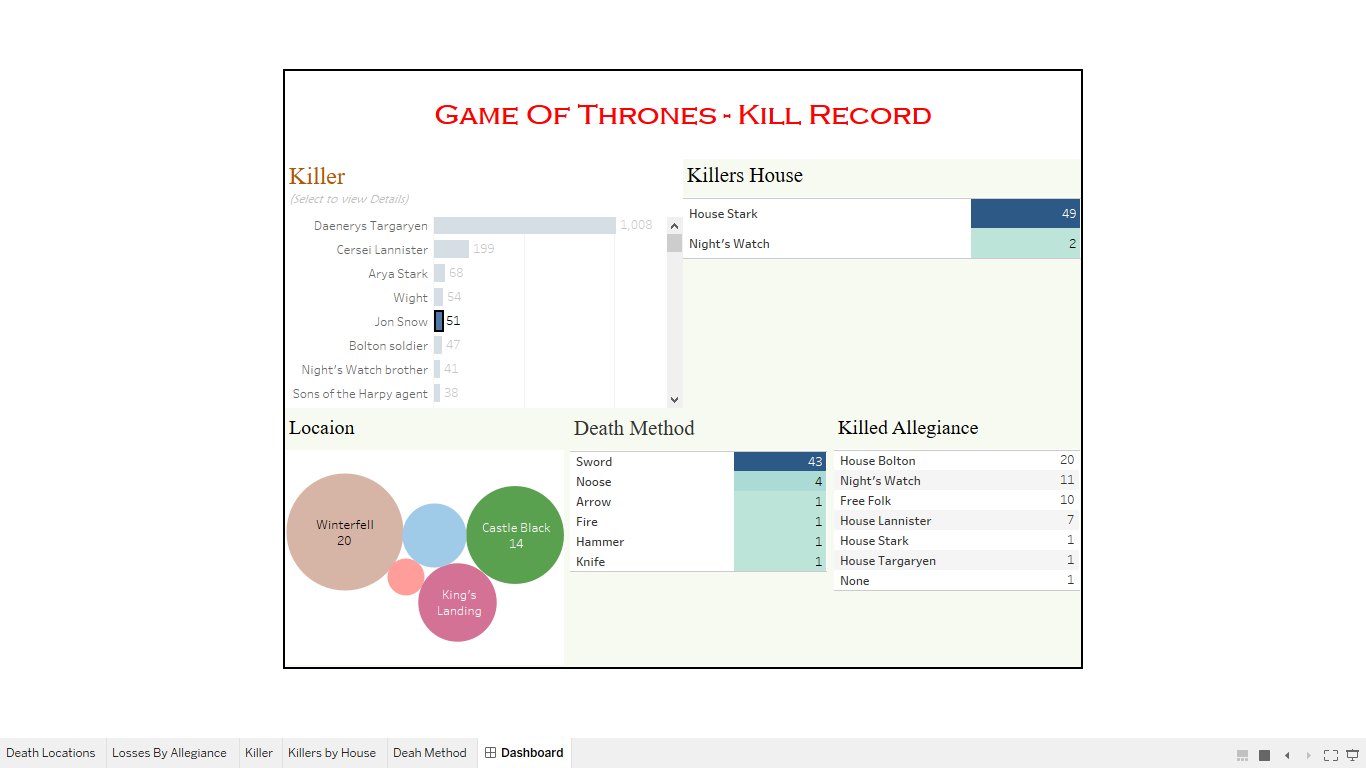

What the dashboard file says about the page in this screenshot:
{"tool":"tableau","page":{"name":"Dashboard","canvas":[800,600],"ordinal":0},"visuals":[{"type":"worksheet","box":[0,0,800,600]},{"type":"worksheet","box":[2,2,796,88]},{"type":"worksheet","param":"horz","box":[2,90,796,508]},{"type":"worksheet","box":[2,90,796,508]},{"type":"worksheet","param":"horz","box":[2,90,796,249]},{"type":"worksheet","title":"Killer","mark":"Automatic","rows":["Killer"],"cols":["Sheet1_106307722F2545B6A2700A89B389D664"],"box":[2,90,398,249]},{"type":"worksheet","title":"Killers by House","mark":"Square","rows":["Killers House"],"box":[400,90,398,249]},{"type":"worksheet","title":"Death Locations","mark":"Circle","box":[2,339,281,259]},{"type":"worksheet","title":"Deah Method","mark":"Square","rows":["Method"],"box":[283,339,265,259]},{"type":"worksheet","title":"Losses By Allegiance","mark":"Automatic","rows":["Allegiance"],"box":[548,339,250,259]}]}

Visuals, with their boxes on the page's 800x600 design canvas (x1, y1, x2, y2). These are canvas units, not pixel positions in the 1366x768 screenshot, which may show the page scaled, cropped or inside an application window:
worksheet: BBox(0, 0, 800, 600)
worksheet: BBox(2, 2, 798, 90)
worksheet: BBox(2, 90, 798, 598)
worksheet: BBox(2, 90, 798, 598)
worksheet: BBox(2, 90, 798, 339)
"Killer" worksheet: BBox(2, 90, 400, 339)
"Killers by House" worksheet (Square marks): BBox(400, 90, 798, 339)
"Death Locations" worksheet (Circle marks): BBox(2, 339, 283, 598)
"Deah Method" worksheet (Square marks): BBox(283, 339, 548, 598)
"Losses By Allegiance" worksheet: BBox(548, 339, 798, 598)
